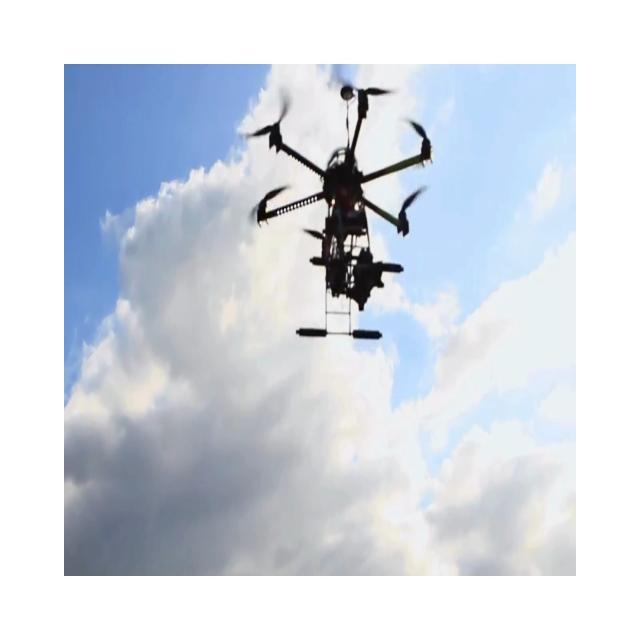drone: (243, 83, 434, 340)
